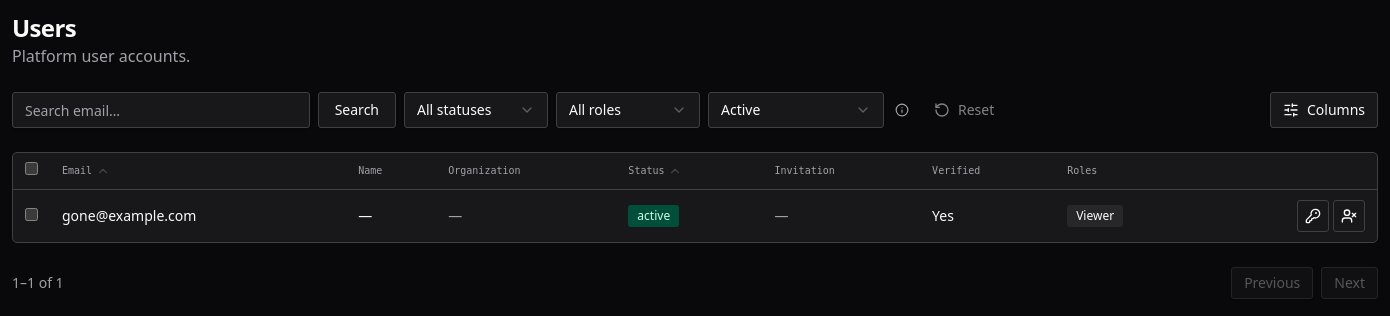
Test: UsersListPage — deleted view › offers no bulk selection over tombstones
Expected: the checkbox named "Select all rows" is shown, 25,162 -> 38,175
What coordinates should you click on to do the following:
click the dropdown named "which users to show"
I would click on:
 (796, 110)
Its box is 708,92 -> 884,128.
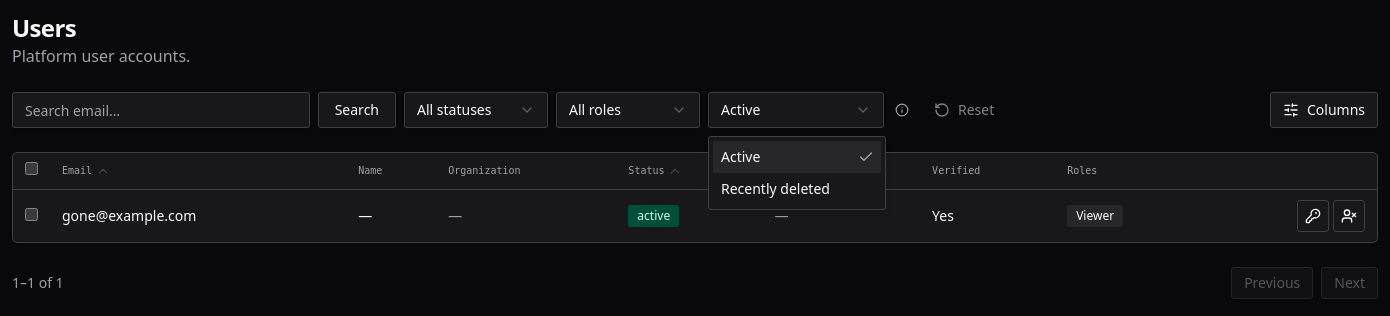
What coordinates should you click on to do the following:
click the option "Recently deleted"
I would click on:
 (775, 188)
Its box is 721,179 -> 830,198.
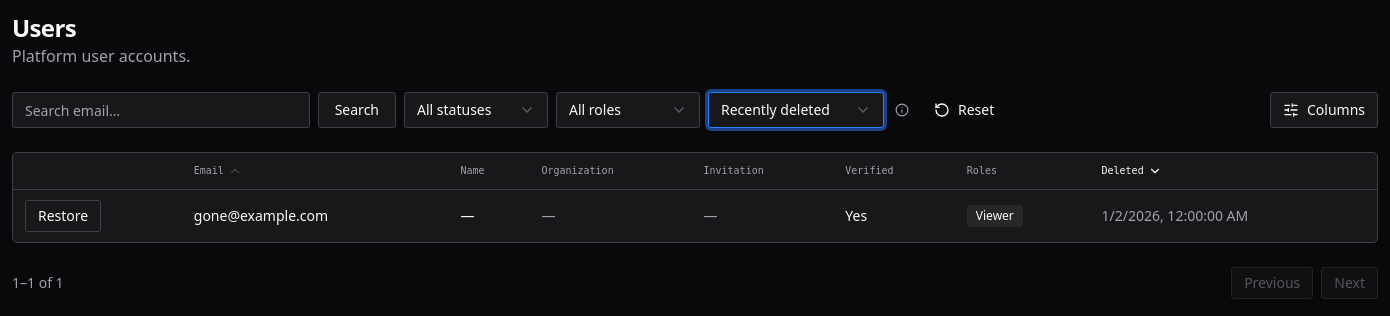
Now no checkboxes are shown
